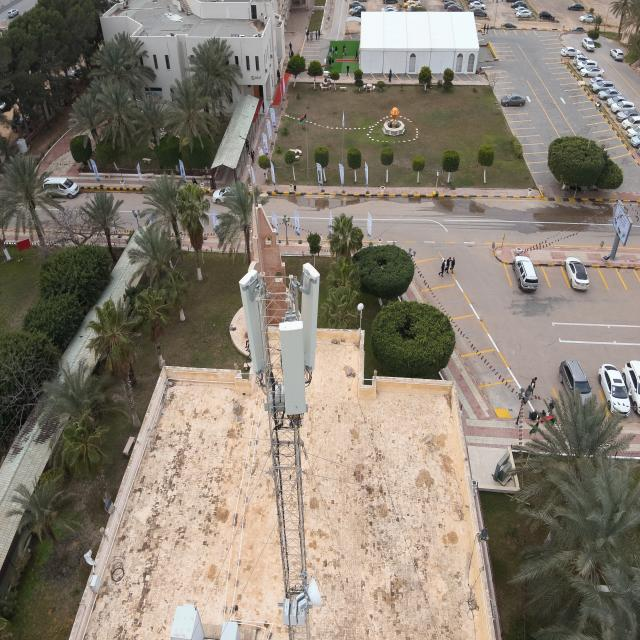antenna: (238, 263, 271, 382), (278, 318, 309, 422), (300, 263, 319, 370)
lighnig-rad: (248, 152, 265, 278)
microware-dish: (294, 579, 322, 614)
power-box: (284, 595, 308, 627)
radio-unit: (264, 384, 285, 410)
